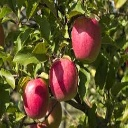apple: (20, 77, 50, 118)
